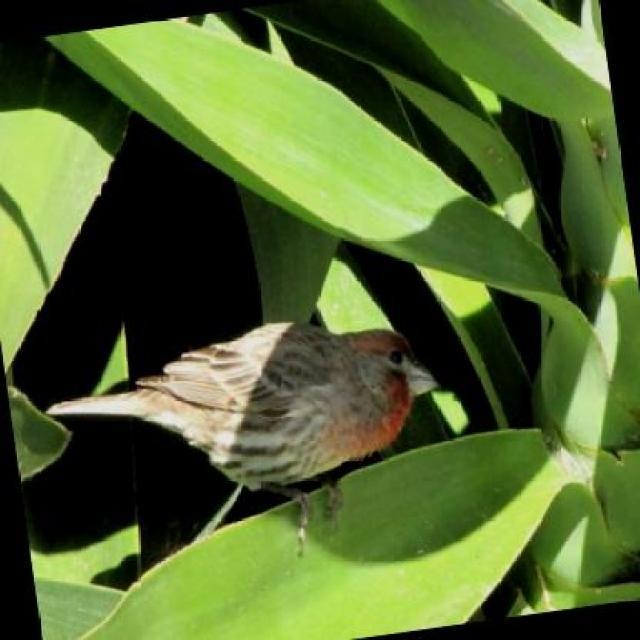Bird: (42, 323, 440, 511)
